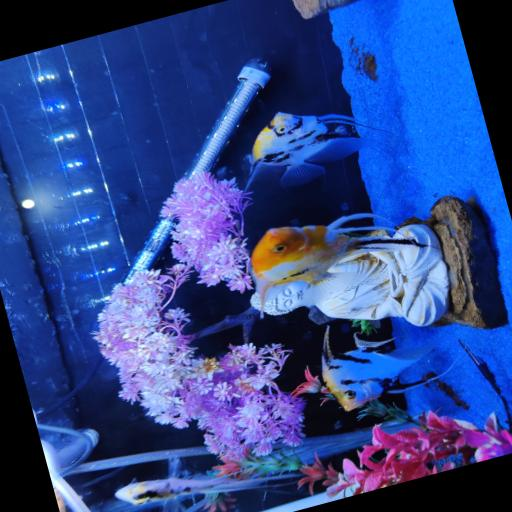Fish: (251, 213, 427, 317), (246, 112, 382, 191), (322, 326, 444, 411), (115, 473, 301, 505)
